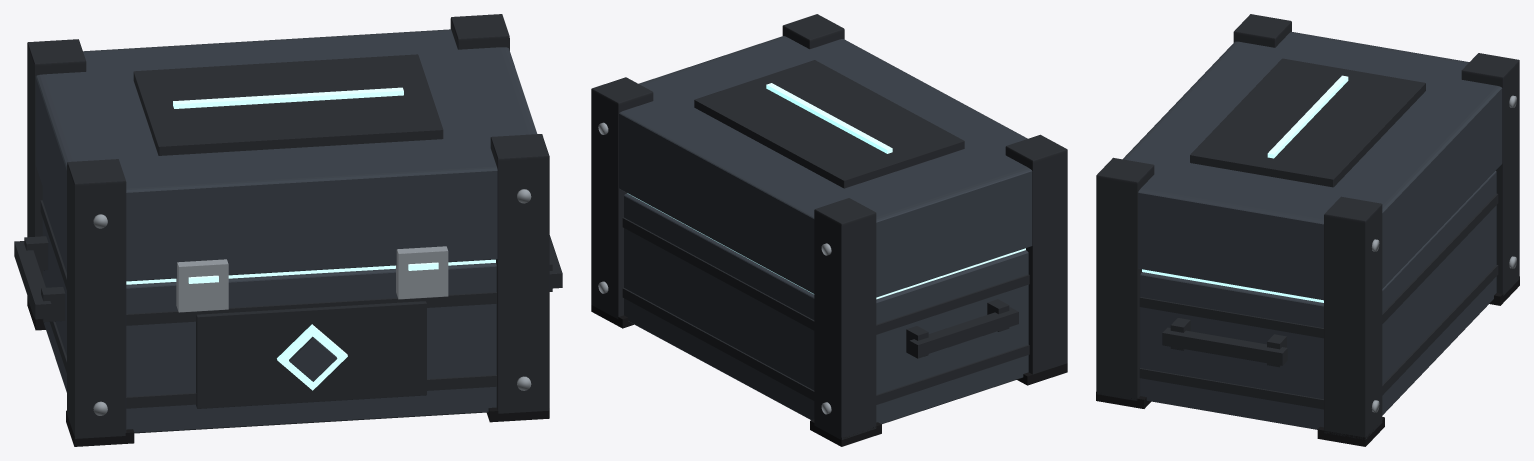
The model's file is cache_0.fbx.
3 renders of one model, left to right at view 1: azimuth 30°, elevation 25°; view 2: azimuth 150°, elevation 25°; view 3: azimuth 270°, elevation 25°, orthographic. The views are drawn at different scales.
Parts seen in each view (by area): view 1: Cube.002, Cube, Cube.003, Cube.021, Cube.005, Cube.007, Cube.006, Cube.010, Cube.026, Cube.024, Cube.009, Cube.004 (+9 smaller); view 2: Cube.002, Cube, Cube.003, Cube.006, Cube.005, Cube.008, Cube.010, Cube.009, Cube.017, Cube.007, Cube.004, Cube.012 (+2 smaller); view 3: Cube.002, Cube, Cube.003, Cube.008, Cube.007, Cube.006, Cube.009, Cube.010, Cube.020, Cube.005, Cube.004, Cube.014 (+2 smaller).
Part boxes in pixels (x1,y1,x2,y2): Cube.002: [35, 29, 537, 281]; Cube: [42, 187, 496, 433]; Cube.003: [133, 54, 443, 155]; Cube.021: [196, 301, 426, 408]; Cube.005: [67, 159, 126, 438]; Cube.007: [490, 134, 549, 413]; Cube.006: [27, 39, 86, 317]; Cube.010: [40, 200, 496, 325]; Cube.026: [396, 246, 448, 299]; Cube.024: [176, 259, 228, 312]; Cube.009: [50, 321, 496, 408]; Cube.004: [173, 87, 403, 108]; Cube.002: [619, 36, 1032, 297]; Cube: [624, 193, 1028, 424]; Cube.003: [694, 60, 964, 188]; Cube.006: [814, 198, 876, 439]; Cube.005: [1005, 134, 1067, 374]; Cube.008: [591, 77, 653, 318]; Cube.010: [622, 217, 1029, 334]; Cube.009: [622, 287, 1029, 404]; Cube.017: [909, 307, 1018, 357]; Cube.007: [782, 14, 844, 49]; Cube.004: [766, 83, 892, 153]; Cube.012: [810, 419, 881, 446]; Cube.002: [1123, 31, 1502, 300]; Cube: [1140, 171, 1496, 429]; Cube.003: [1190, 58, 1425, 187]; Cube.008: [1324, 196, 1382, 439]; Cube.007: [1096, 157, 1154, 400]; Cube.006: [1461, 53, 1519, 295]; Cube.009: [1139, 265, 1498, 409]; Cube.010: [1139, 193, 1498, 338]; Cube.020: [1162, 327, 1287, 365]; Cube.005: [1233, 14, 1291, 47]; Cube.004: [1267, 75, 1348, 158]; Cube.014: [1317, 417, 1384, 446].
Size of the model in its own units: 56.71 by 29.1 by 48.97.
